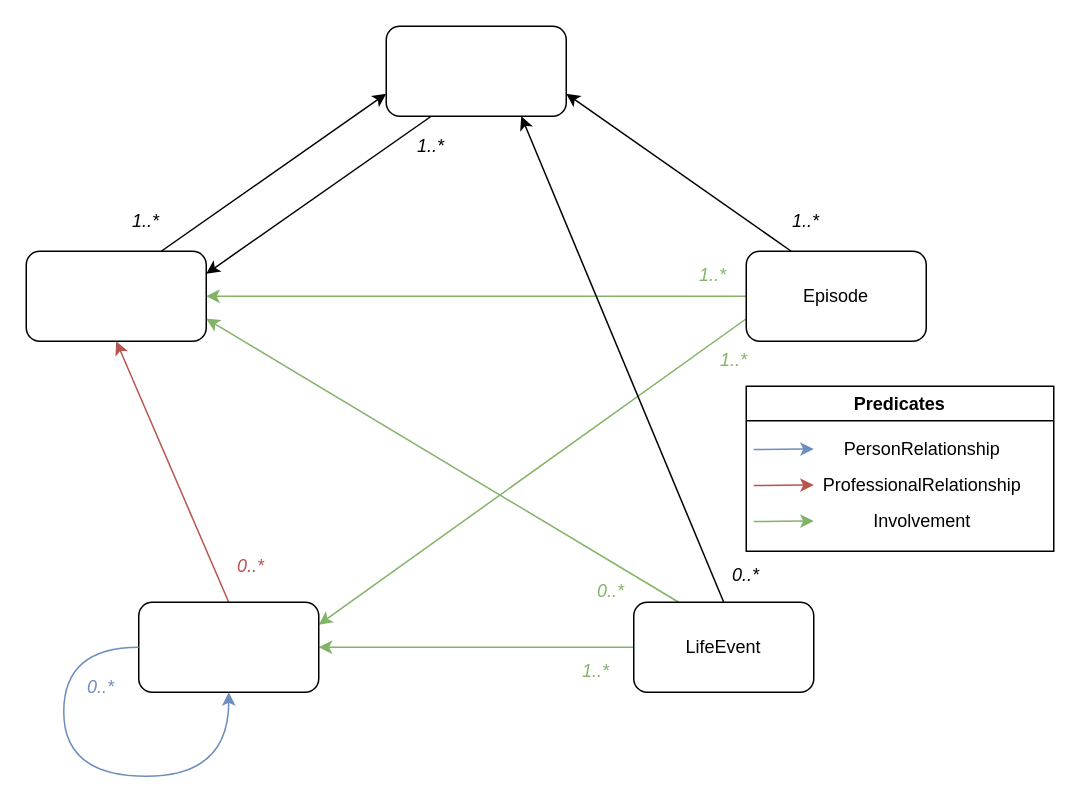
Image size: 1080x803. Some labels were removed from this diagram. The centre of each missing label's shape, as x and y in pixels:
Person: point (228, 646)
Professional: point (115, 295)
Service: point (475, 70)
